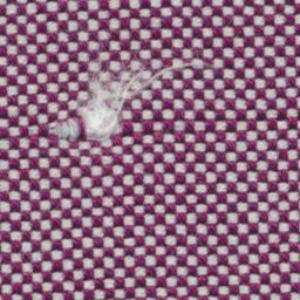fault: (35, 47, 213, 150)
